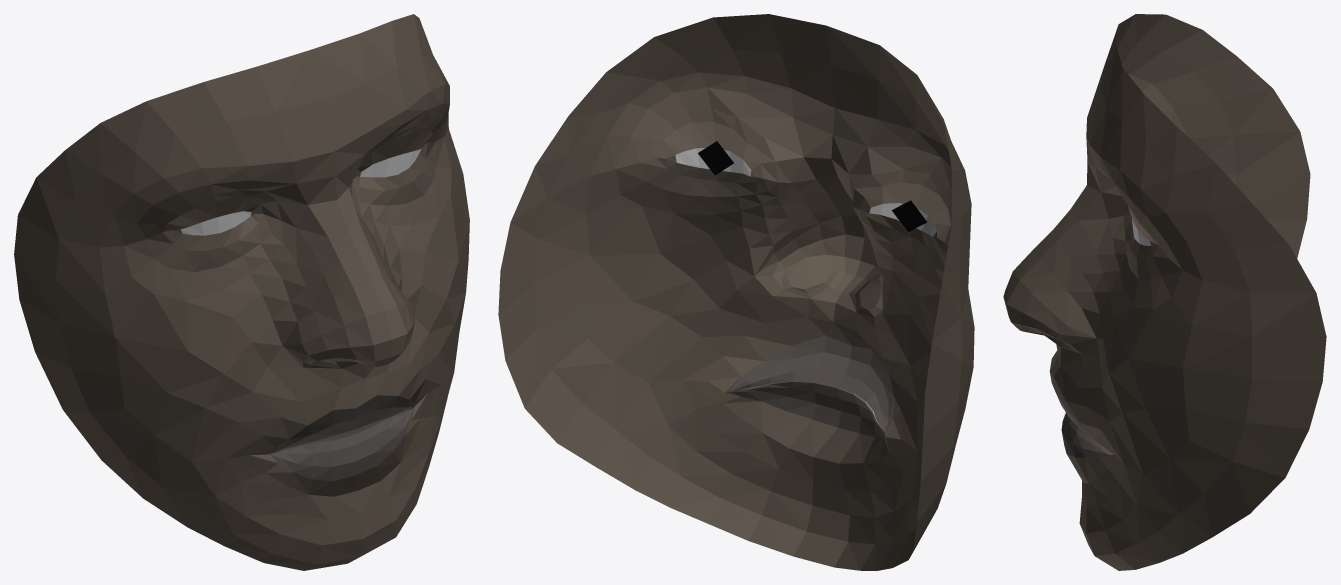
File: crying.obj
3 renders of one model, left to right at view 1: azimuth 30°, elevation 25°; view 2: azimuth 150°, elevation 25°; view 3: azimuth 270°, elevation 25°, orthographic. The views are drawn at different scales.
Visible parts, largest first — view 1: face_model_with_iris; view 2: face_model_with_iris; view 3: face_model_with_iris.
Part boxes in pixels (bbox=[...]): face_model_with_iris: bbox=[14, 14, 469, 570]; face_model_with_iris: bbox=[498, 14, 974, 570]; face_model_with_iris: bbox=[1003, 14, 1326, 570].
Size of the model in its own units: 0.8198 by 1 by 0.5874.
